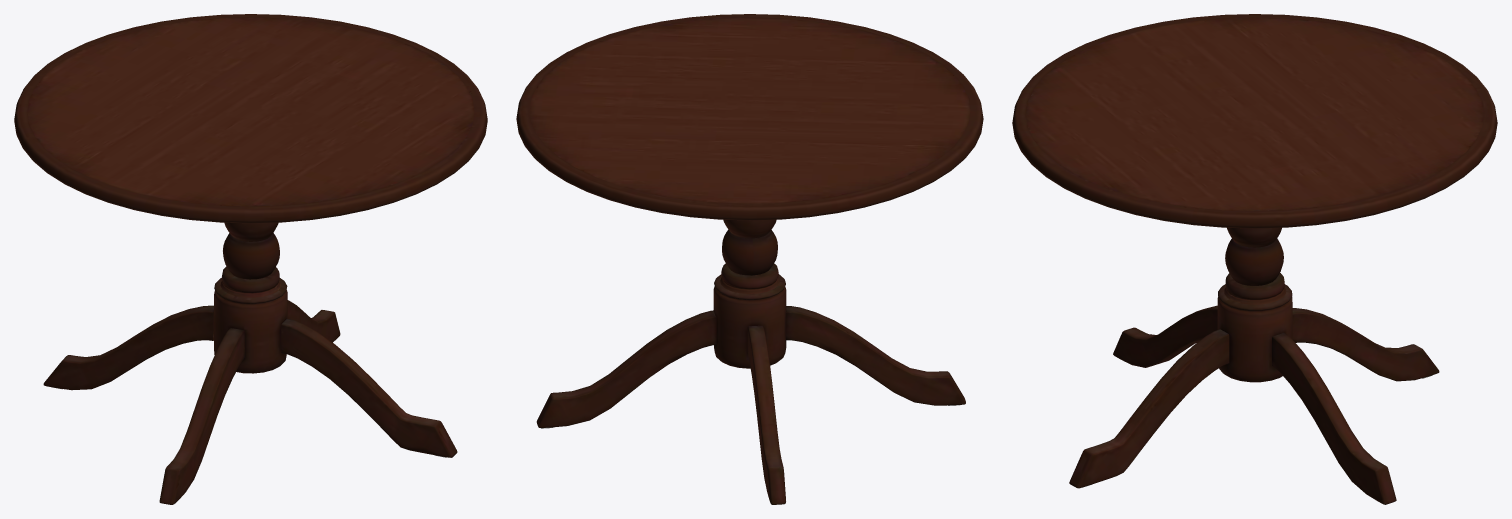
File: round_wooden_table_01.glb
3 views of the same model, side by side, from view 1: azimuth 30°, elevation 25°; view 2: azimuth 150°, elevation 25°; view 3: azimuth 270°, elevation 25° (orthographic). The views are drawn at different scales.
Visible parts, largest first — view 1: round_wooden_table_01; view 2: round_wooden_table_01; view 3: round_wooden_table_01.
Part boxes in pixels (x1,y1,x2,y2): round_wooden_table_01: [14, 14, 487, 504]; round_wooden_table_01: [516, 14, 983, 504]; round_wooden_table_01: [1012, 14, 1497, 504].
Size of the model in its own units: 1.4 by 1.01 by 1.4.
Materials: 1 (1 with a texture image).
